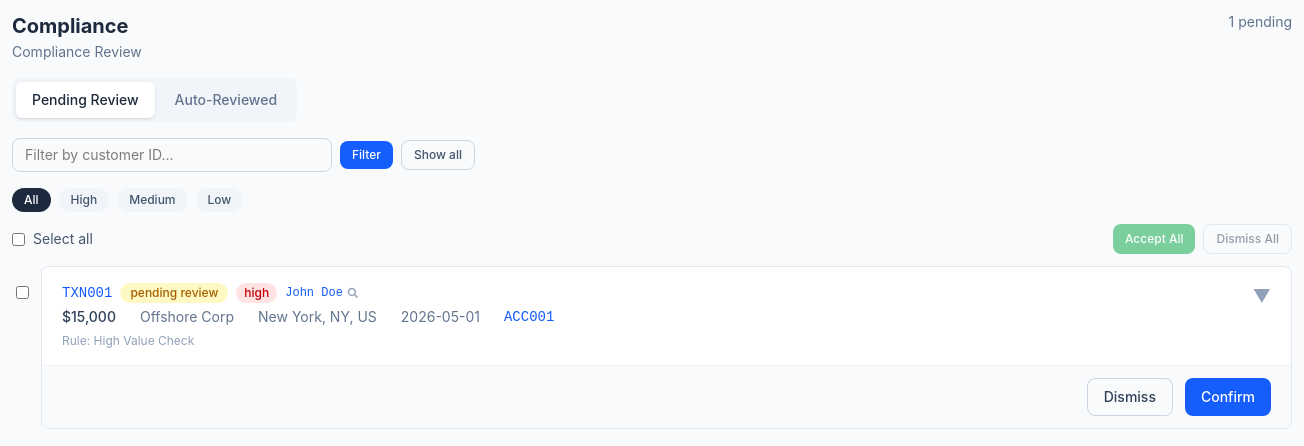
Test case: CompliancePage › shows selected count when items selected
Expected: the link "TXN001" is shown, [62,283,112,303]
Click the 2nd checkbox at [22, 292], box [16,286,29,299]
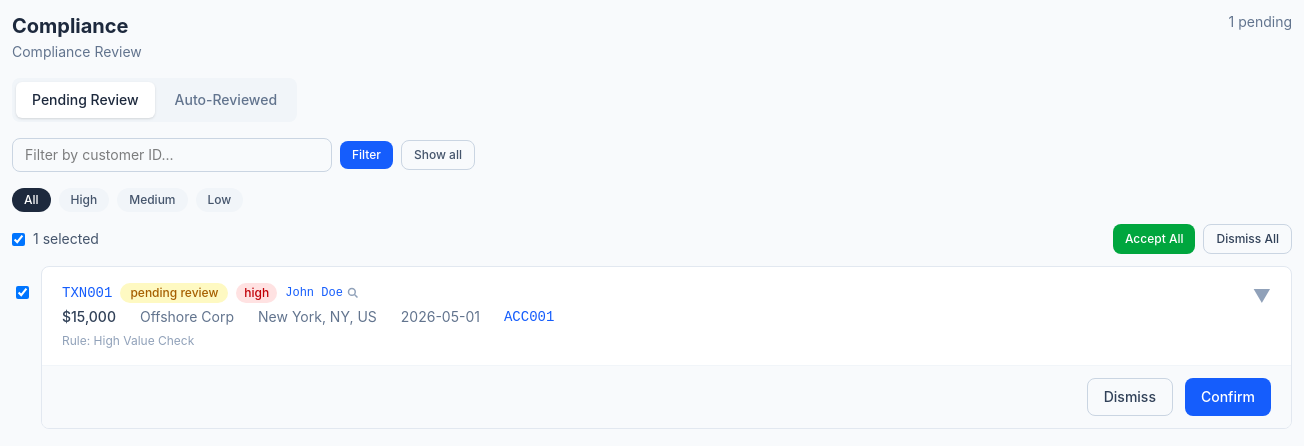
Now the text "1 selected" is shown, box [12,229,99,249]
